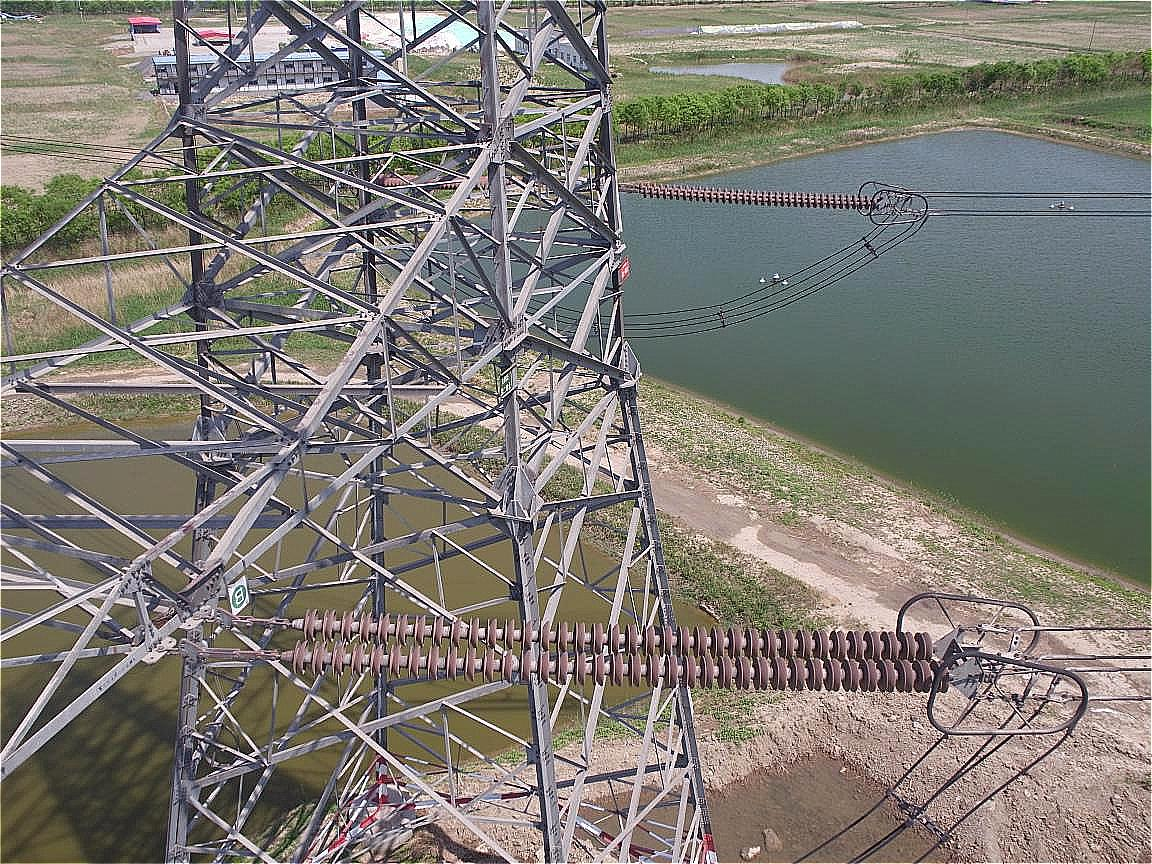insultor1: (630, 174, 880, 214)
insultor2: (246, 593, 970, 703)
